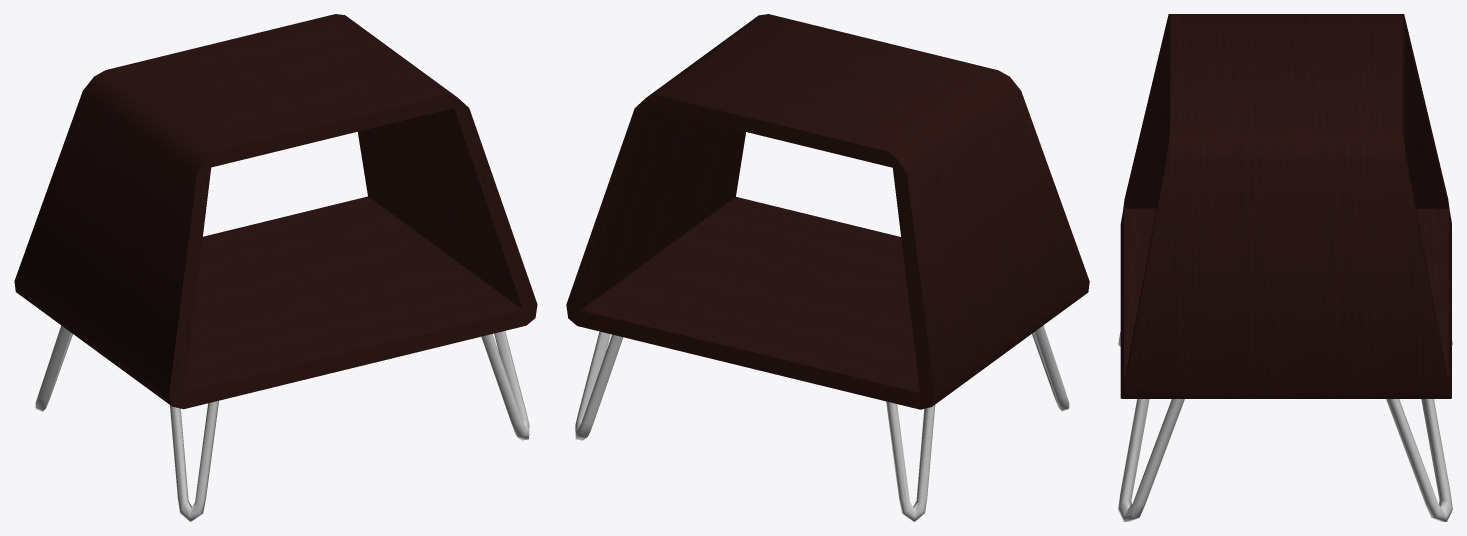
File: Open_End_Table_05.FBX
The picture shows the model from 3 angles, left to right: view 1: azimuth 30°, elevation 25°; view 2: azimuth 150°, elevation 25°; view 3: azimuth 270°, elevation 25°; orthographic projection. The views are drawn at different scales.
Parts seen in each view (by area): view 1: End_table; view 2: End_table; view 3: End_table.
Boxes of the visible parts, x1,y1,x2,y2 form: End_table: [14, 14, 537, 521]; End_table: [566, 14, 1089, 521]; End_table: [1118, 14, 1452, 521].
Bounding box in the file's own units: 134 × 120 × 101.
